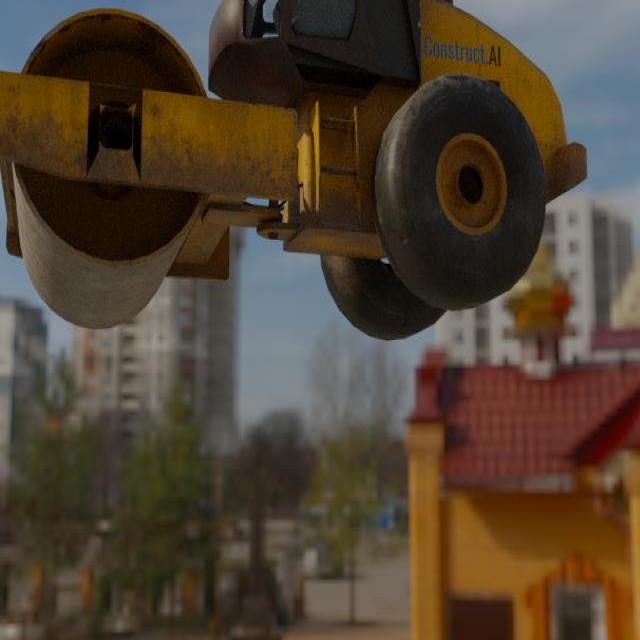Roller: (0, 0, 588, 343)
